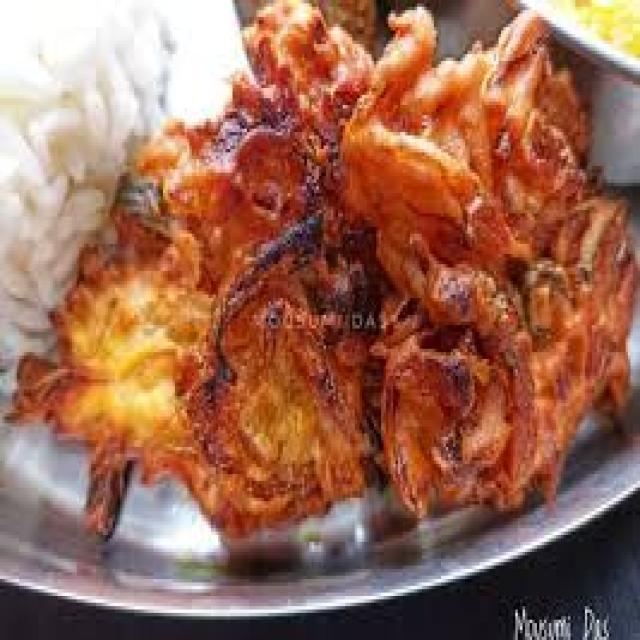BAJI: (10, 1, 636, 535)
